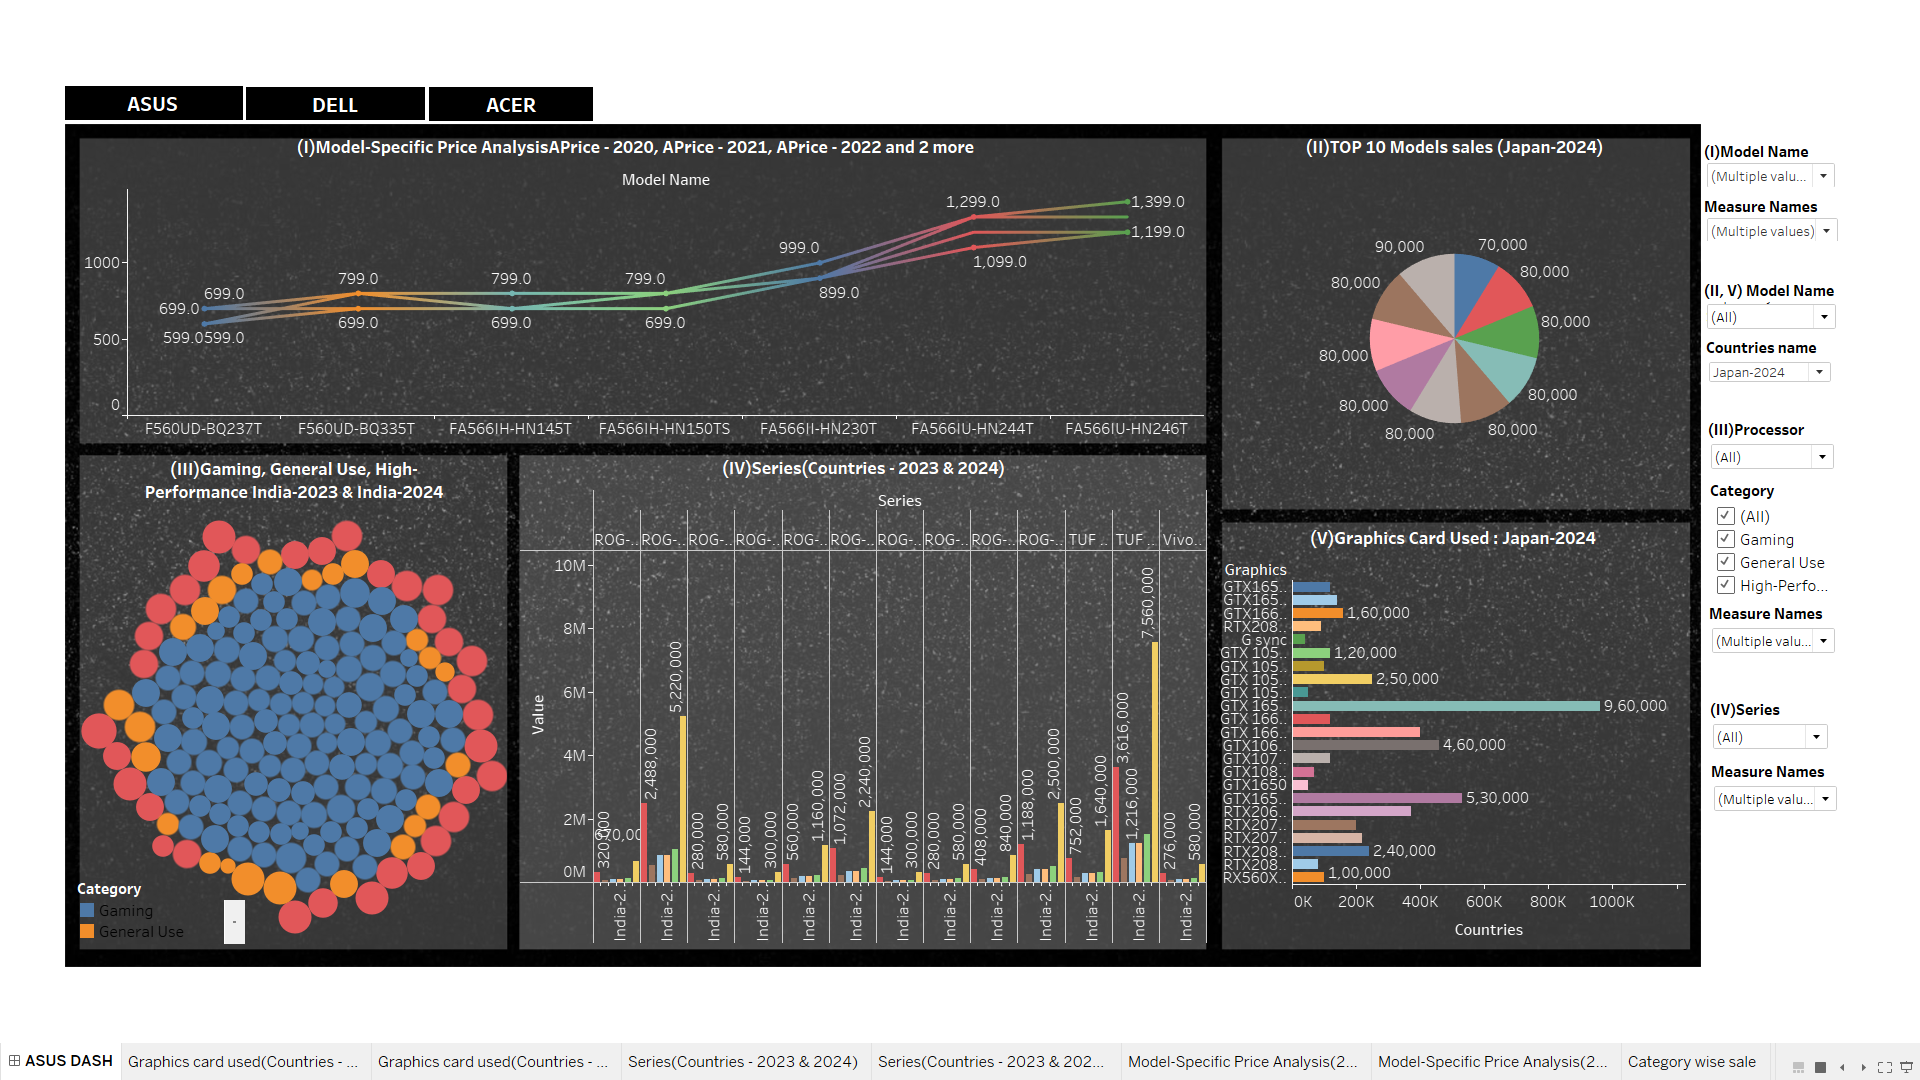

This screenshot's page, from the dashboard's own definition file:
{"tool":"tableau","page":{"name":"ASUS DASH","canvas":[1800,900],"ordinal":1},"visuals":[{"type":"dashboard-object","box":[5.3,15,177.9,34]},{"type":"dashboard-object","box":[186.4,16,178.9,33]},{"type":"dashboard-object","box":[369,16,164,34]},{"type":"image","param":"Image/dashhhh.png","box":[5,53,1739,843]},{"type":"worksheet","title":"Model-Specific Price Analysis","mark":"Line","cols":["Model_Name"],"box":[7,60,1137,309]},{"type":"worksheet","title":"TOP 10 Models sales","mark":"Pie","box":[1161,60,467,377]},{"type":"filter","title":"Model-Specific Price Analysis","param":"[federated.045dadc01g7skb165rw2d01qucg0].[none:Model_Name:nk]","box":[1644,70,134,46]},{"type":"filter","title":"Model-Specific Price Analysis","param":"[federated.045dadc01g7skb165rw2d01qucg0].[:Measure Names]","box":[1644,125,137,45]},{"type":"filter","title":"TOP 10 Models sales","param":"[federated.045dadc01g7skb165rw2d01qucg0].[none:Model_Name:nk]","box":[1644,209,135,51]},{"type":"parameter","param":"[Parameters].[Parameter 1]","box":[1646,266,128,50]},{"type":"filter","title":"Category wise sales","param":"[federated.045dadc01g7skb165rw2d01qucg0].[none:Processor:nk]","box":[1648,348,129,55]},{"type":"worksheet","title":"Series(Countries - 2023&2024)","mark":"Automatic","cols":["Series"],"box":[460,381,687,492]},{"type":"worksheet","title":"Category wise sales","mark":"Circle","box":[21,382,427,487]},{"type":"filter","title":"Category wise sales","param":"[federated.045dadc01g7skb165rw2d01qucg0].[none:Category:nk]","box":[1650,409,124,119]},{"type":"worksheet","title":"Graphics Card Used(Countries used)","mark":"Automatic","rows":["Graphics"],"cols":["Calculation_1532912785936191488"],"box":[1160,451,466,425]},{"type":"filter","title":"Category wise sales","param":"[federated.045dadc01g7skb165rw2d01qucg0].[:Measure Names]","box":[1649,532,129,56]},{"type":"filter","title":"Series(Countries - 2023&2024)","param":"[federated.045dadc01g7skb165rw2d01qucg0].[none:Series:nk]","box":[1650,628,121,56]},{"type":"filter","title":"Series(Countries - 2023&2024)","param":"[federated.045dadc01g7skb165rw2d01qucg0].[:Measure Names]","box":[1651,690,129,56]},{"type":"legend","title":"Category wise sales","param":"[federated.045dadc01g7skb165rw2d01qucg0].[none:Category:nk]","box":[16.9,807,170.5,66]}]}

Visuals, with their boxes on the page's 1800x900 design canvas (x1, y1, x2, y2). These are canvas units, not pixel positions in the 1920x1080 screenshot, which may show the page scaled, cropped or inside an application window:
dashboard-object: box(5, 15, 183, 49)
dashboard-object: box(186, 16, 365, 49)
dashboard-object: box(369, 16, 533, 50)
image: box(5, 53, 1744, 896)
"Model-Specific Price Analysis" worksheet (Line marks): box(7, 60, 1144, 369)
"TOP 10 Models sales" worksheet (Pie marks): box(1161, 60, 1628, 437)
"Model-Specific Price Analysis" filter: box(1644, 70, 1778, 116)
"Model-Specific Price Analysis" filter: box(1644, 125, 1781, 170)
"TOP 10 Models sales" filter: box(1644, 209, 1779, 260)
parameter: box(1646, 266, 1774, 316)
"Category wise sales" filter: box(1648, 348, 1777, 403)
"Series(Countries - 2023&2024)" worksheet: box(460, 381, 1147, 873)
"Category wise sales" worksheet (Circle marks): box(21, 382, 448, 869)
"Category wise sales" filter: box(1650, 409, 1774, 528)
"Graphics Card Used(Countries used)" worksheet: box(1160, 451, 1626, 876)
"Category wise sales" filter: box(1649, 532, 1778, 588)
"Series(Countries - 2023&2024)" filter: box(1650, 628, 1771, 684)
"Series(Countries - 2023&2024)" filter: box(1651, 690, 1780, 746)
"Category wise sales" legend: box(17, 807, 187, 873)
